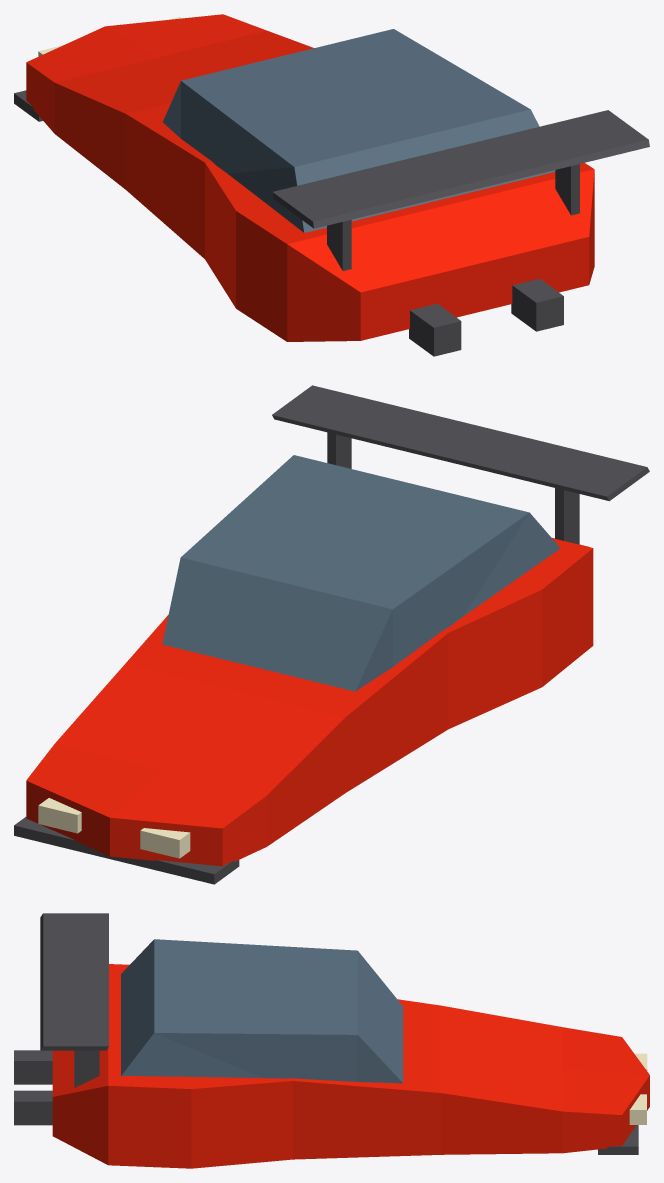
Rendered from H_Hatch_Body.fbx.
3 views of the same model, one above another, from view 1: azimuth 30°, elevation 25°; view 2: azimuth 150°, elevation 25°; view 3: azimuth 270°, elevation 25° (orthographic). The views are drawn at different scales.
Visible parts, largest first — view 1: C_Cartoon_Body.001, C_Cartoon_Canopy.002, Wing, C_Cartoon_Exhaust_R.002, C_Cartoon_Exhaust_L.002, WingStandL, WingStandR; view 2: C_Cartoon_Body.001, C_Cartoon_Canopy.002, Wing, C_Cartoon_Splitter.002, WingStandL, C_Cartoon_Light_L.002, C_Cartoon_Light_R.002, WingStandR; view 3: C_Cartoon_Body.001, C_Cartoon_Canopy.002, Wing, C_Cartoon_Exhaust_R.002, C_Cartoon_Exhaust_L.002, WingStandR, C_Cartoon_Splitter.002, C_Cartoon_Light_R.002.
Part boxes in pixels (x1=…): C_Cartoon_Body.001: x1=26, y1=14, x2=594, y2=341; C_Cartoon_Canopy.002: x1=163, y1=29, x2=555, y2=232; Wing: x1=272, y1=110, x2=649, y2=228; C_Cartoon_Exhaust_R.002: x1=511, y1=278, x2=563, y2=331; C_Cartoon_Exhaust_L.002: x1=409, y1=303, x2=461, y2=356; WingStandL: x1=327, y1=219, x2=351, y2=270; WingStandR: x1=555, y1=164, x2=579, y2=215; C_Cartoon_Body.001: x1=26, y1=538, x2=593, y2=866; C_Cartoon_Canopy.002: x1=162, y1=455, x2=560, y2=691; Wing: x1=272, y1=385, x2=649, y2=501; C_Cartoon_Splitter.002: x1=14, y1=817, x2=239, y2=884; WingStandL: x1=555, y1=488, x2=579, y2=544; C_Cartoon_Light_L.002: x1=140, y1=828, x2=190, y2=858; C_Cartoon_Light_R.002: x1=38, y1=798, x2=81, y2=833; WingStandR: x1=327, y1=432, x2=351, y2=468; C_Cartoon_Body.001: x1=52, y1=964, x2=649, y2=1168; C_Cartoon_Canopy.002: x1=121, y1=939, x2=403, y2=1083; Wing: x1=40, y1=913, x2=108, y2=1050; C_Cartoon_Exhaust_R.002: x1=14, y1=1090, x2=52, y2=1125; C_Cartoon_Exhaust_L.002: x1=14, y1=1050, x2=52, y2=1084; WingStandR: x1=74, y1=1050, x2=99, y2=1087; C_Cartoon_Splitter.002: x1=598, y1=1125, x2=638, y2=1154; C_Cartoon_Light_R.002: x1=629, y1=1094, x2=646, y2=1124.
Bounding box in the file's own units: 171 × 80.85 × 344.
